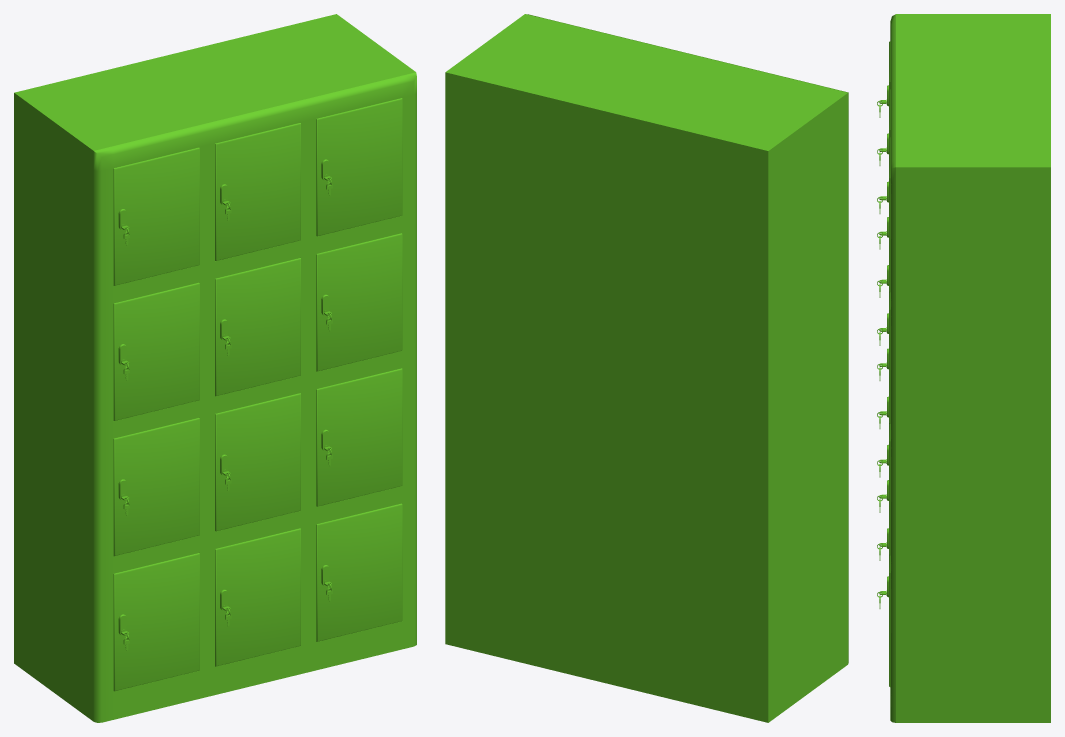
The model's file is Locker.fbx.
3 views of the same model, side by side, from view 1: azimuth 30°, elevation 25°; view 2: azimuth 150°, elevation 25°; view 3: azimuth 270°, elevation 25° (orthographic). The views are drawn at different scales.
Parts seen in each view (by area): view 1: Locker; view 2: Locker; view 3: Locker.
Part boxes in pixels (x1,y1,x2,y2): Locker: [14, 14, 416, 722]; Locker: [445, 14, 848, 722]; Locker: [886, 14, 1050, 722].
Bounding box in the file's own units: 113 × 190 × 54.02.
